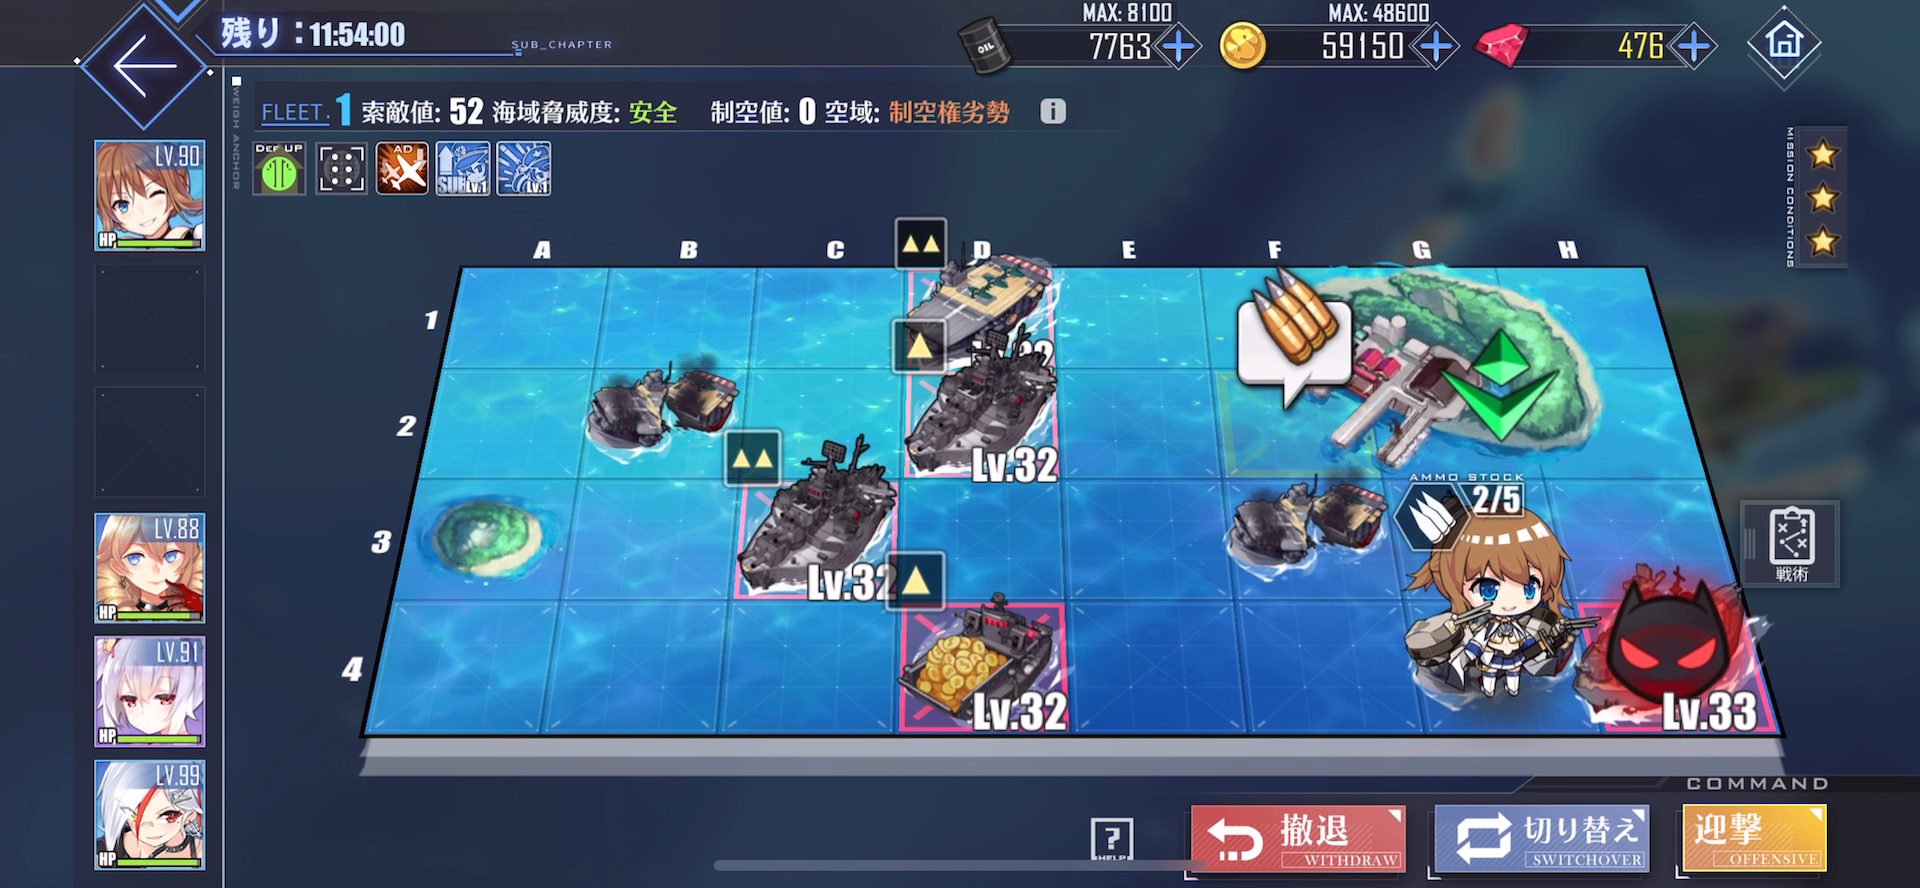boss: (1569, 566, 1760, 734)
